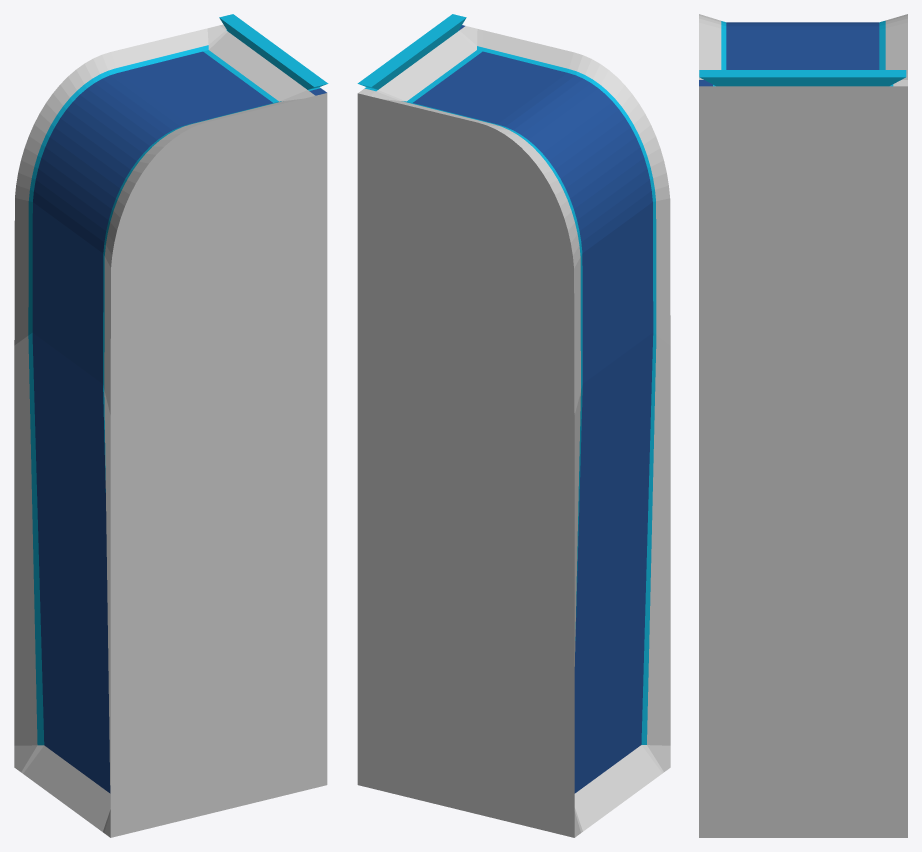
Rendered from Gedung5.fbx.
The picture shows the model from 3 angles, left to right: view 1: azimuth 30°, elevation 25°; view 2: azimuth 150°, elevation 25°; view 3: azimuth 270°, elevation 25°; orthographic projection. The views are drawn at different scales.
Visible parts, largest first — view 1: Cube.008; view 2: Cube.008; view 3: Cube.008.
Part boxes in pixels (left/top/right/bottom): Cube.008: left=14, top=14, right=328, bottom=837; Cube.008: left=357, top=14, right=670, bottom=837; Cube.008: left=699, top=14, right=907, bottom=837.
Size of the model in its own units: 118 by 361 by 89.79.
